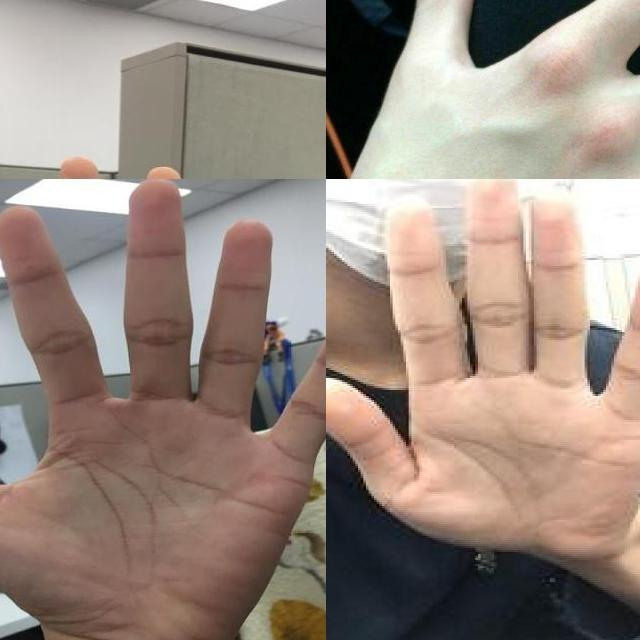hand: (0, 179, 326, 640), (326, 179, 640, 558), (326, 0, 640, 179)
